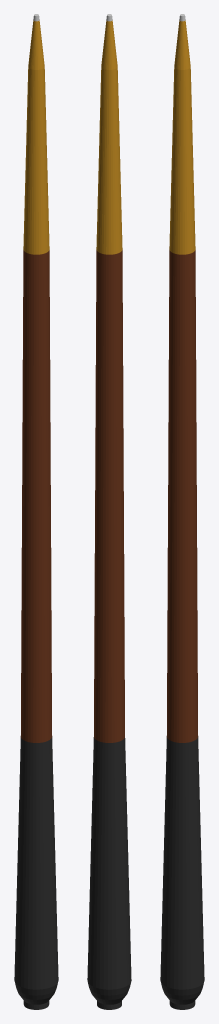
The model's file is Pool Queue.fbx.
The picture shows the model from 3 angles, left to right: view 1: azimuth 90°, elevation 25°; view 2: azimuth 210°, elevation 25°; view 3: azimuth 270°, elevation 25°; orthographic projection.
Visible parts, largest first — view 1: Circle; view 2: Circle; view 3: Circle.
Boxes of the visible parts, bbox=[...] form: Circle: bbox=[14, 14, 58, 1009]; Circle: bbox=[87, 14, 131, 1009]; Circle: bbox=[160, 14, 204, 1009].
Bounding box in the file's own units: 5.09 × 126 × 5.09.
